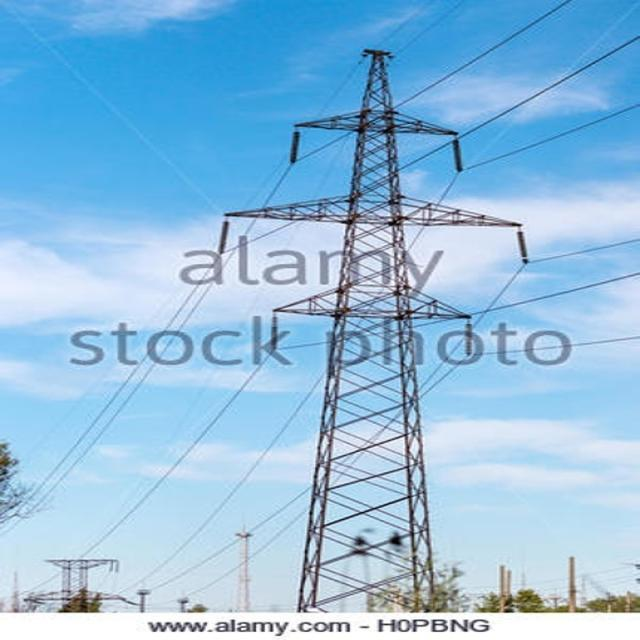non-critical vegetation: (261, 41, 502, 610)
